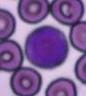L: (24, 26, 68, 68)
